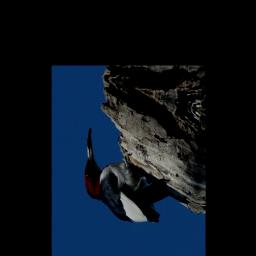Woodpecker: (80, 128, 194, 243)
